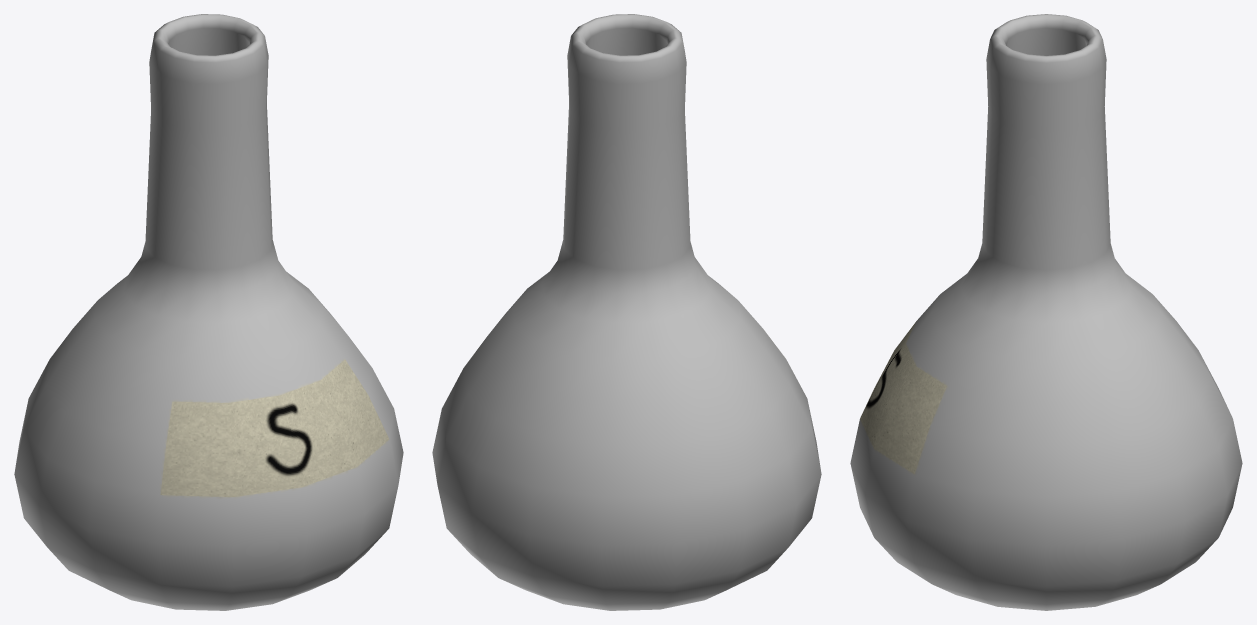
Rendered from Sulphur Beaker.fbx.
3 renders of one model, left to right at view 1: azimuth 30°, elevation 25°; view 2: azimuth 150°, elevation 25°; view 3: azimuth 270°, elevation 25°, orthographic.
Visible parts, largest first — view 1: pCylinder6; view 2: pCylinder6; view 3: pCylinder6.
Boxes of the visible parts, <box> form: pCylinder6: <box>14,14,403,610</box>; pCylinder6: <box>432,14,821,610</box>; pCylinder6: <box>850,14,1242,610</box>.
Bounding box in the file's own units: 1.37 × 2.01 × 1.37.
1 material, 1 textured.
